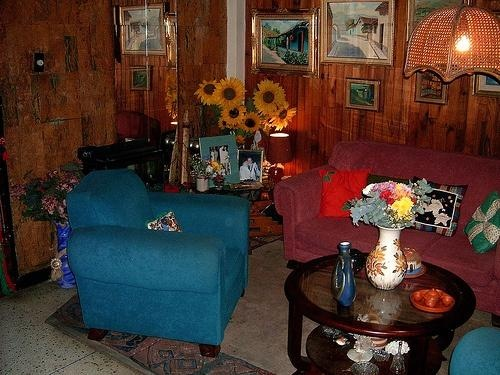chair: (67, 166, 253, 357)
sofa: (273, 138, 500, 320)
